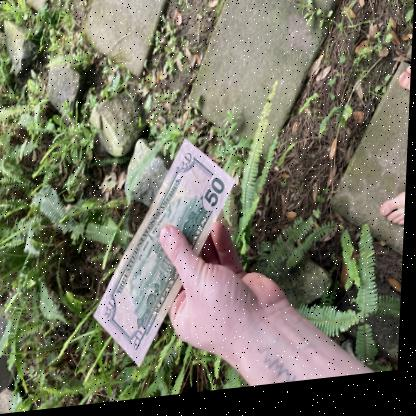fifty-back: (96, 142, 238, 369)
